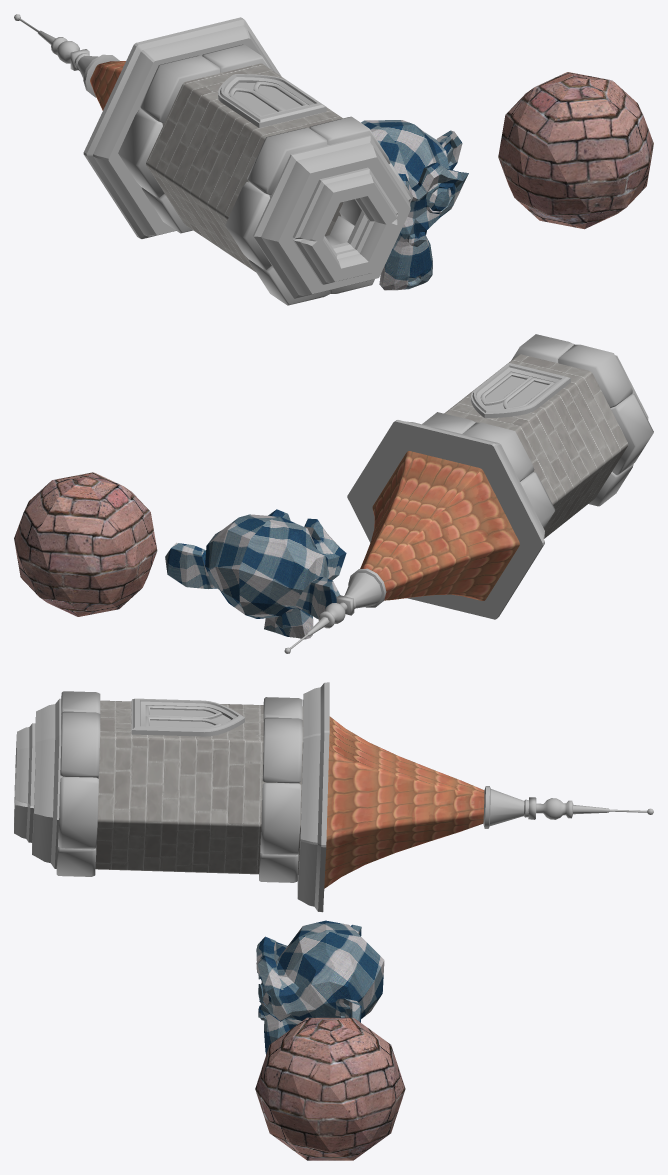
The model's file is multi_mesh.fbx.
The picture shows the model from 3 angles, top to bottom: view 1: azimuth 30°, elevation 25°; view 2: azimuth 150°, elevation 25°; view 3: azimuth 270°, elevation 25°; orthographic projection. The views are drawn at different scales.
Parts seen in each view (by area): view 1: Object33148, Icosphere, Suzanne; view 2: Object33148, Icosphere, Suzanne; view 3: Object33148, Icosphere, Suzanne.
Part boxes in pixels (box(x1,y1,x2,y2)): Object33148: box(14, 14, 412, 305); Icosphere: box(498, 72, 653, 229); Suzanne: box(361, 120, 468, 290); Object33148: box(284, 334, 653, 653); Icosphere: box(14, 472, 157, 616); Suzanne: box(165, 509, 346, 639); Object33148: box(14, 682, 653, 912); Icosphere: box(255, 1017, 405, 1160); Suzanne: box(256, 920, 384, 1054).
Size of the model in its own units: 812 by 399 by 851.
Materials: 8 (4 with a texture image).
